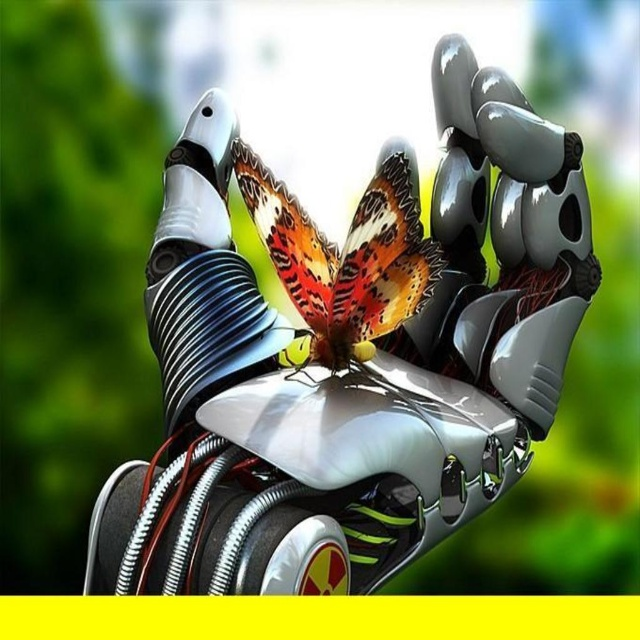Butterfly: (232, 109, 448, 422)
